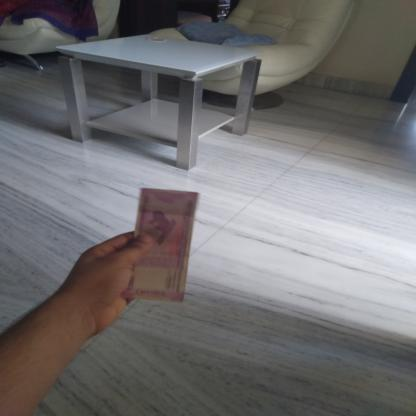New2000Back: (131, 192, 189, 300)
